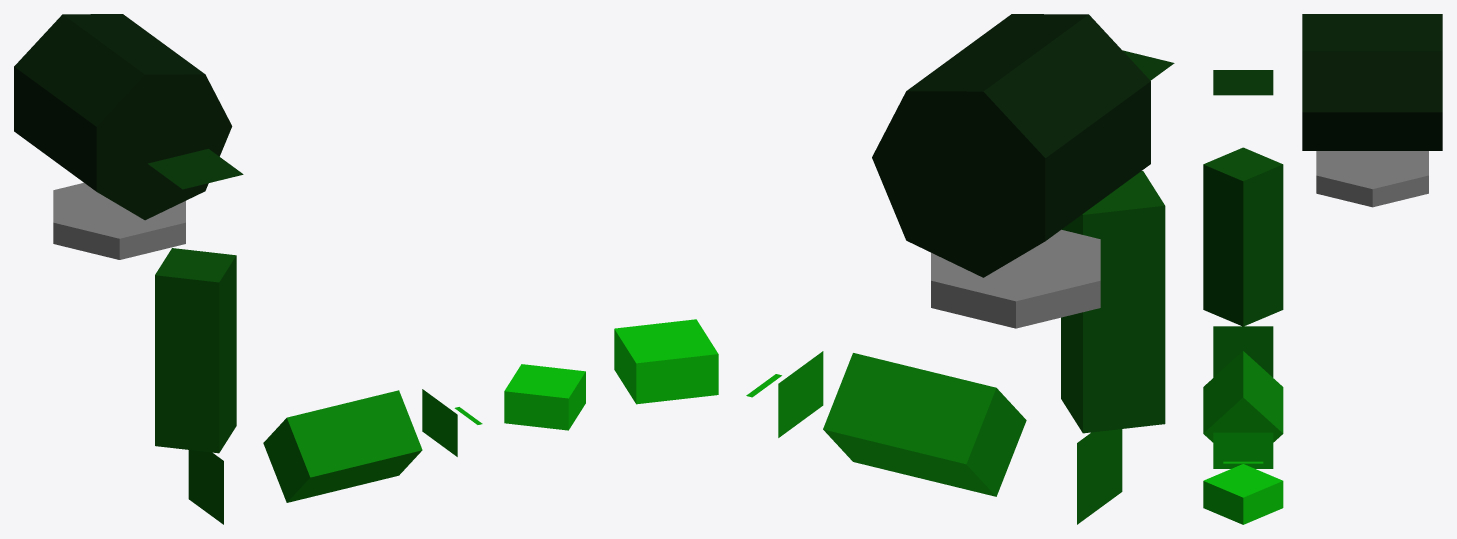
Rendered from gummi.dae.
3 views of the same model, side by side, from view 1: azimuth 30°, elevation 25°; view 2: azimuth 150°, elevation 25°; view 3: azimuth 270°, elevation 25° (orthographic). The views are drawn at different scales.
Parts seen in each view (by area): view 1: shoulder, upperarm, lowerarm, base_link, tool, upperarm_preroll, lowerarm_preroll, wrist; view 2: shoulder, upperarm, lowerarm, base_link, tool, lowerarm_preroll, wrist, upperarm_preroll; view 3: shoulder, upperarm, base_link, lowerarm, tool, lowerarm_preroll, wrist, upperarm_preroll.
Part boxes in pixels (box(x1,y1,x2,y2)): shoulder: box(14, 14, 232, 220); upperarm: box(155, 248, 236, 453); lowerarm: box(263, 390, 422, 502); base_link: box(53, 183, 185, 259); tool: box(504, 364, 585, 430); upperarm_preroll: box(148, 149, 243, 189); lowerarm_preroll: box(188, 450, 223, 524); wrist: box(422, 389, 457, 456); shoulder: box(872, 14, 1150, 277); upperarm: box(1061, 171, 1165, 433); lowerarm: box(823, 353, 1026, 496); base_link: box(931, 229, 1100, 328); tool: box(614, 319, 718, 404); lowerarm_preroll: box(1077, 429, 1122, 524); wrist: box(778, 351, 823, 437); upperarm_preroll: box(1122, 50, 1174, 80); shoulder: box(1302, 14, 1442, 150); upperarm: box(1203, 147, 1283, 326); base_link: box(1316, 151, 1428, 207); lowerarm: box(1203, 351, 1283, 442); tool: box(1203, 464, 1283, 524); lowerarm_preroll: box(1213, 326, 1273, 377); wrist: box(1213, 432, 1273, 468); upperarm_preroll: box(1213, 70, 1273, 95).
Size of the model in its own units: 0.4474 by 0.239 by 0.4017.
